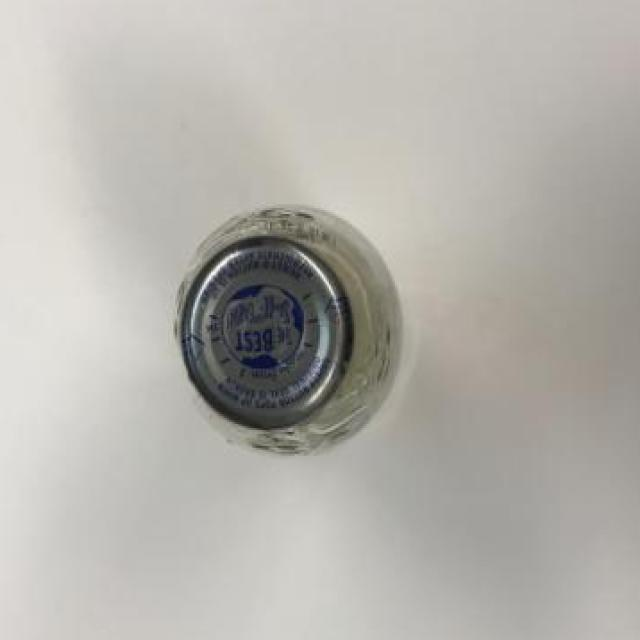organic: (134, 173, 434, 462)
